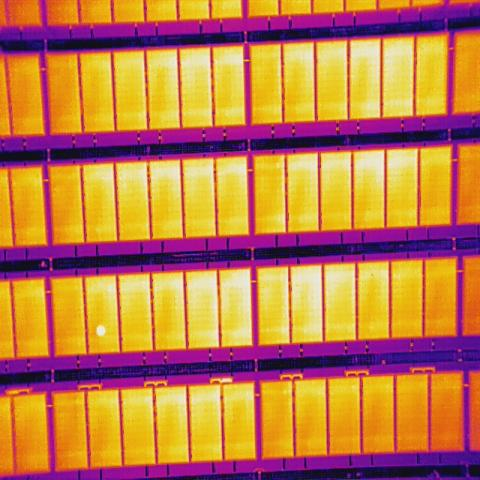fault: (96, 324, 107, 338)
